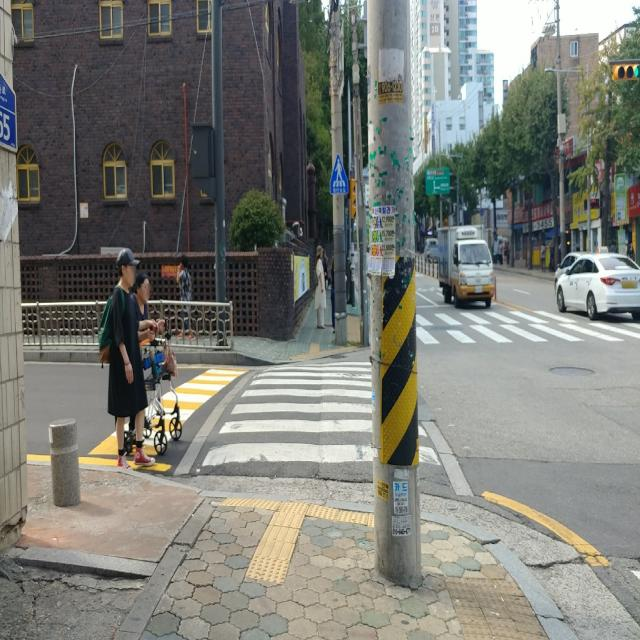횡단보도: (201, 359, 442, 468), (416, 312, 590, 347)
